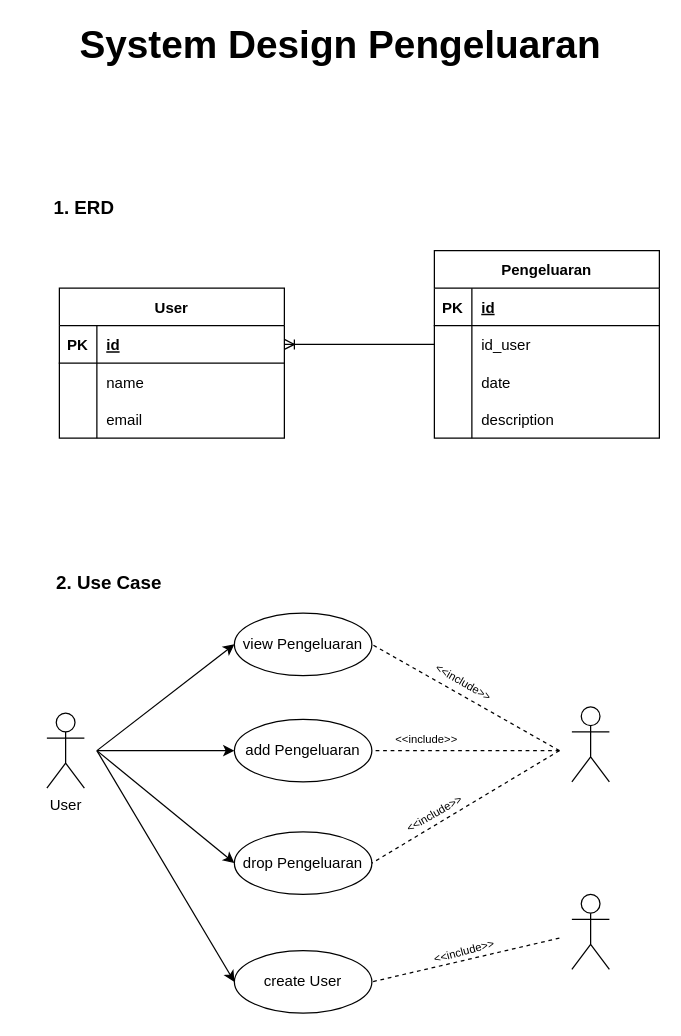
Some shapes in this 681 by 1036 pixel diagram are drawn without their labels. Here are the shapes that lost their labels. From the top down, the centre of each, then its label:
At point 590,744: "<<system>> Login".
At point 590,931: "<<system>> Register".
